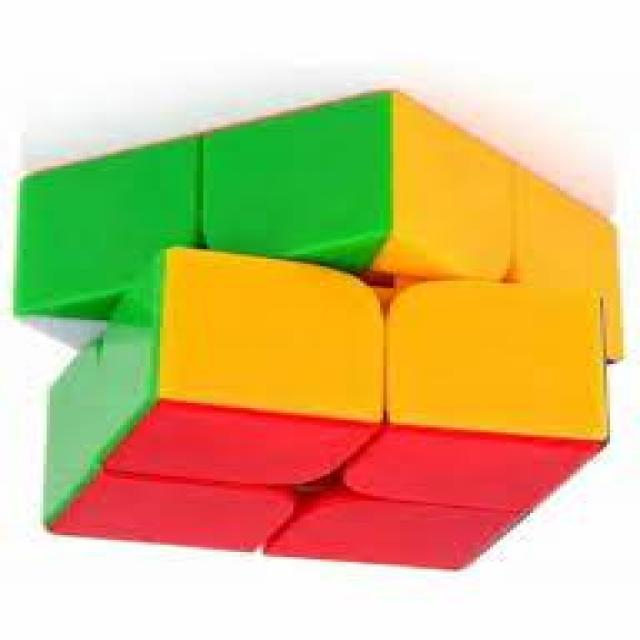cube: (10, 104, 623, 578)
